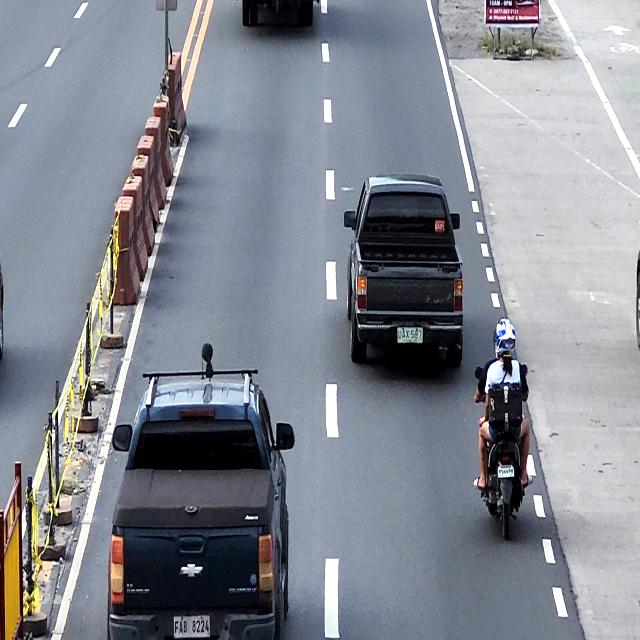Car: (106, 367, 296, 640), (343, 174, 464, 370)
License-Plate: (173, 615, 210, 640), (396, 325, 425, 345), (497, 462, 516, 478)
Motorcycle: (475, 361, 531, 544)
